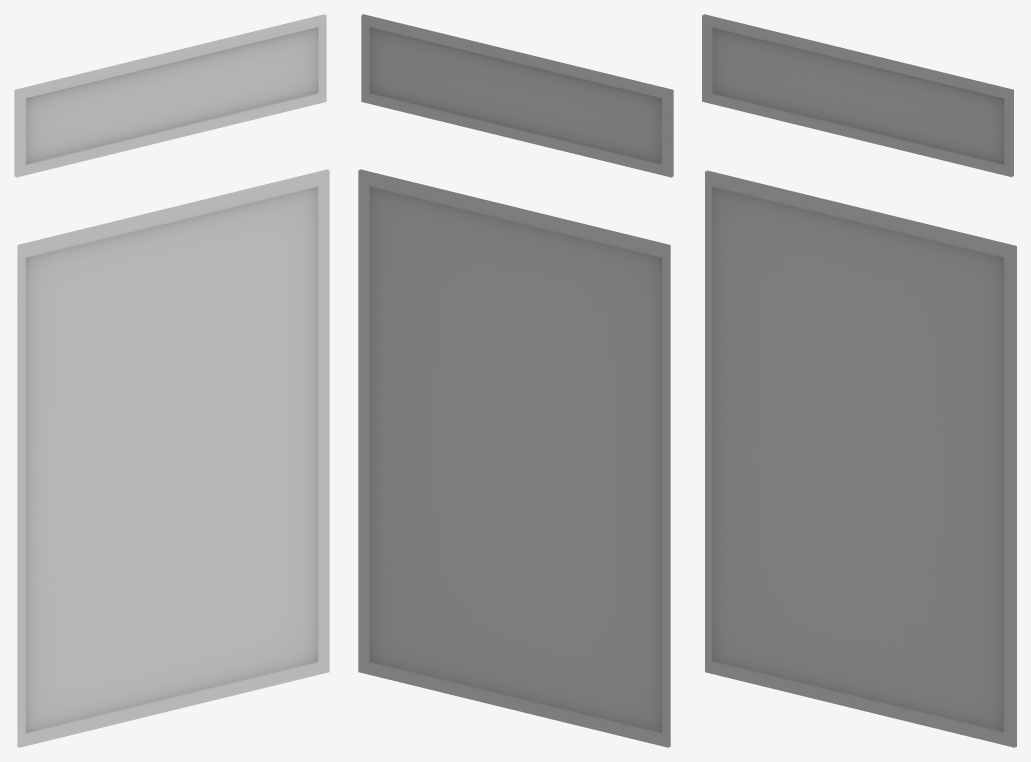
Rendered from Glass_Large_B.FBX.
3 views of the same model, side by side, from view 1: azimuth 30°, elevation 25°; view 2: azimuth 150°, elevation 25°; view 3: azimuth 330°, elevation 25° (orthographic).
Visible parts, largest first — view 1: Glass_Large_B; view 2: Glass_Large_B; view 3: Glass_Large_B.
Part boxes in pixels (x1=…): Glass_Large_B: x1=14, y1=14, x2=329, y2=747; Glass_Large_B: x1=358, y1=14, x2=673, y2=747; Glass_Large_B: x1=702, y1=14, x2=1016, y2=747.
Size of the model in its own units: 127 by 255 by 1.
